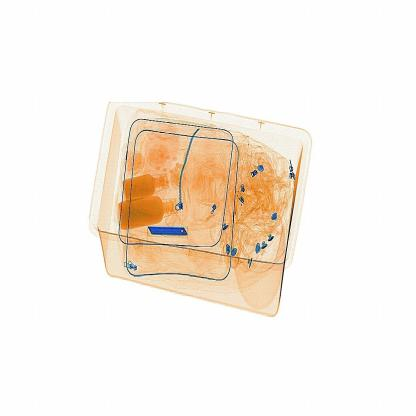pliers: (148, 224, 194, 251)
